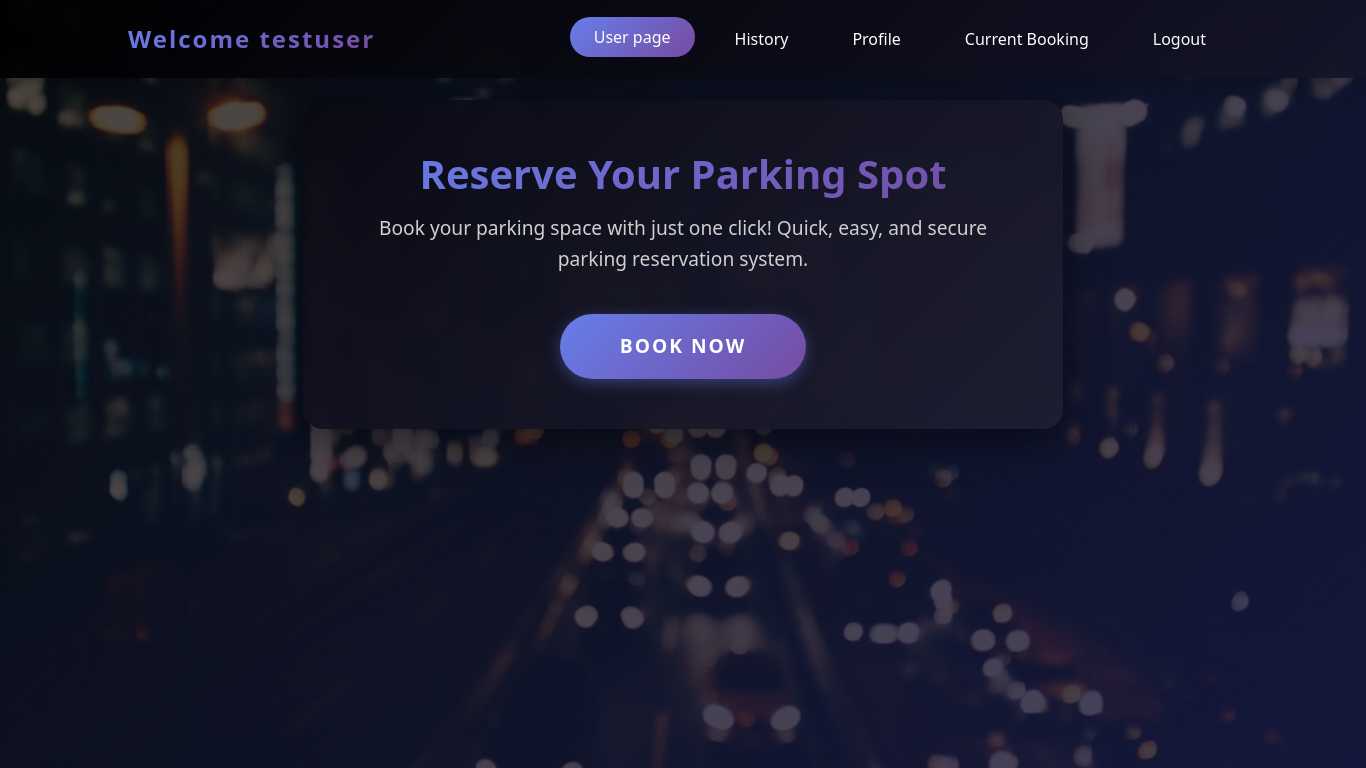
Dashboard › should show warning when user already has active booking
The image size is (1366, 768).
Click the button "BOOK NOW" at (683,347), box 560,314 -> 806,379
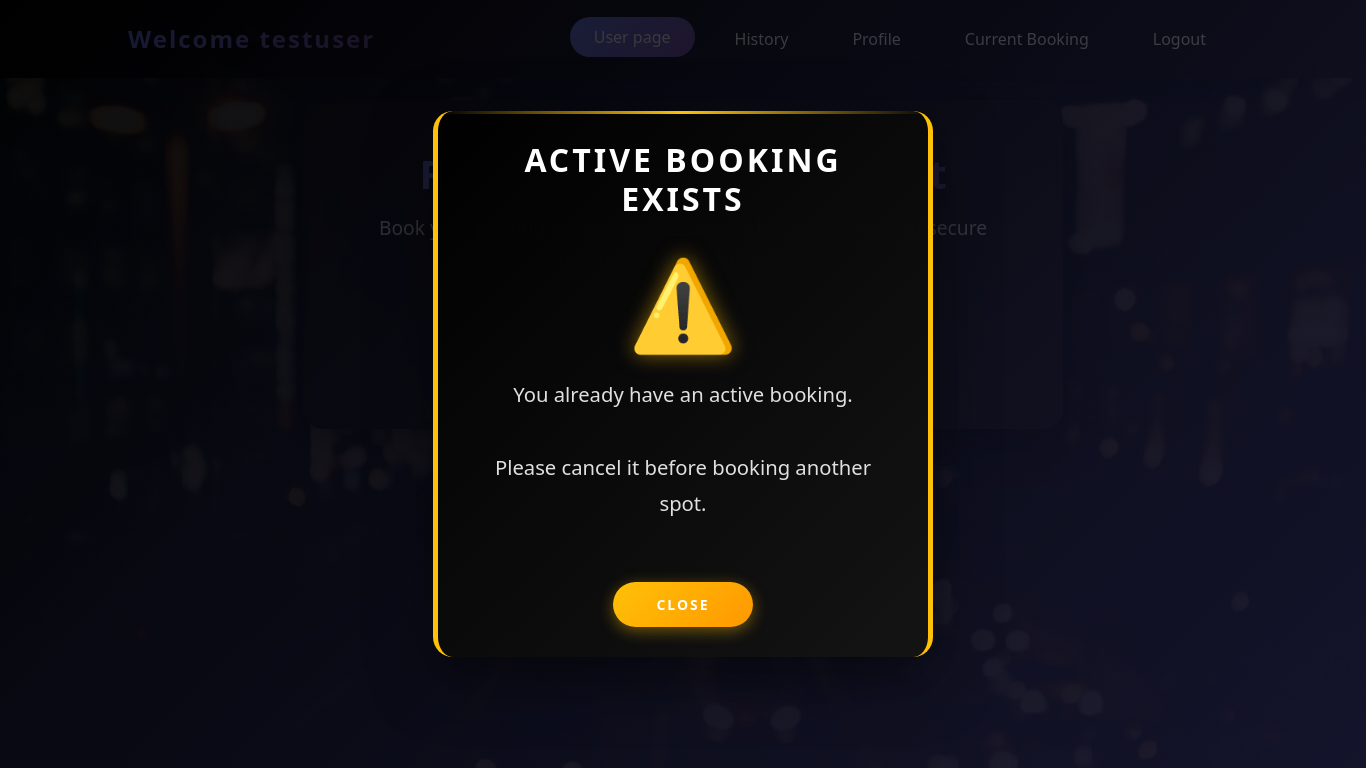
Expected: the heading "Active Booking Exists" is shown, 524,138 -> 842,220
